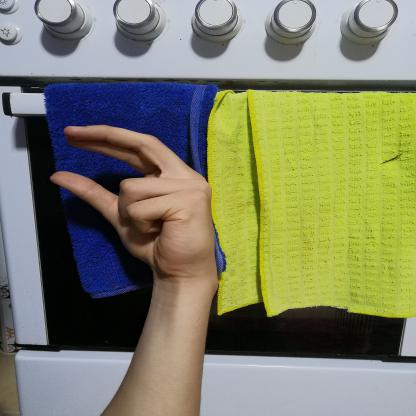DHELL: (39, 119, 230, 282)
